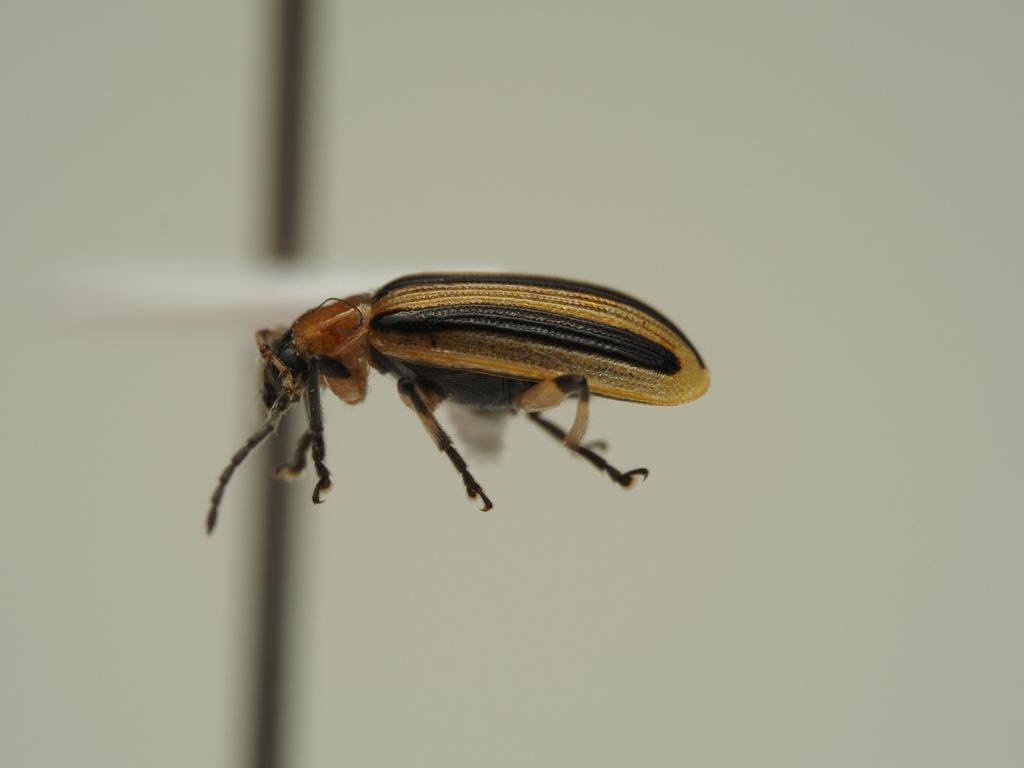potato_beetle: (141, 204, 798, 592)
